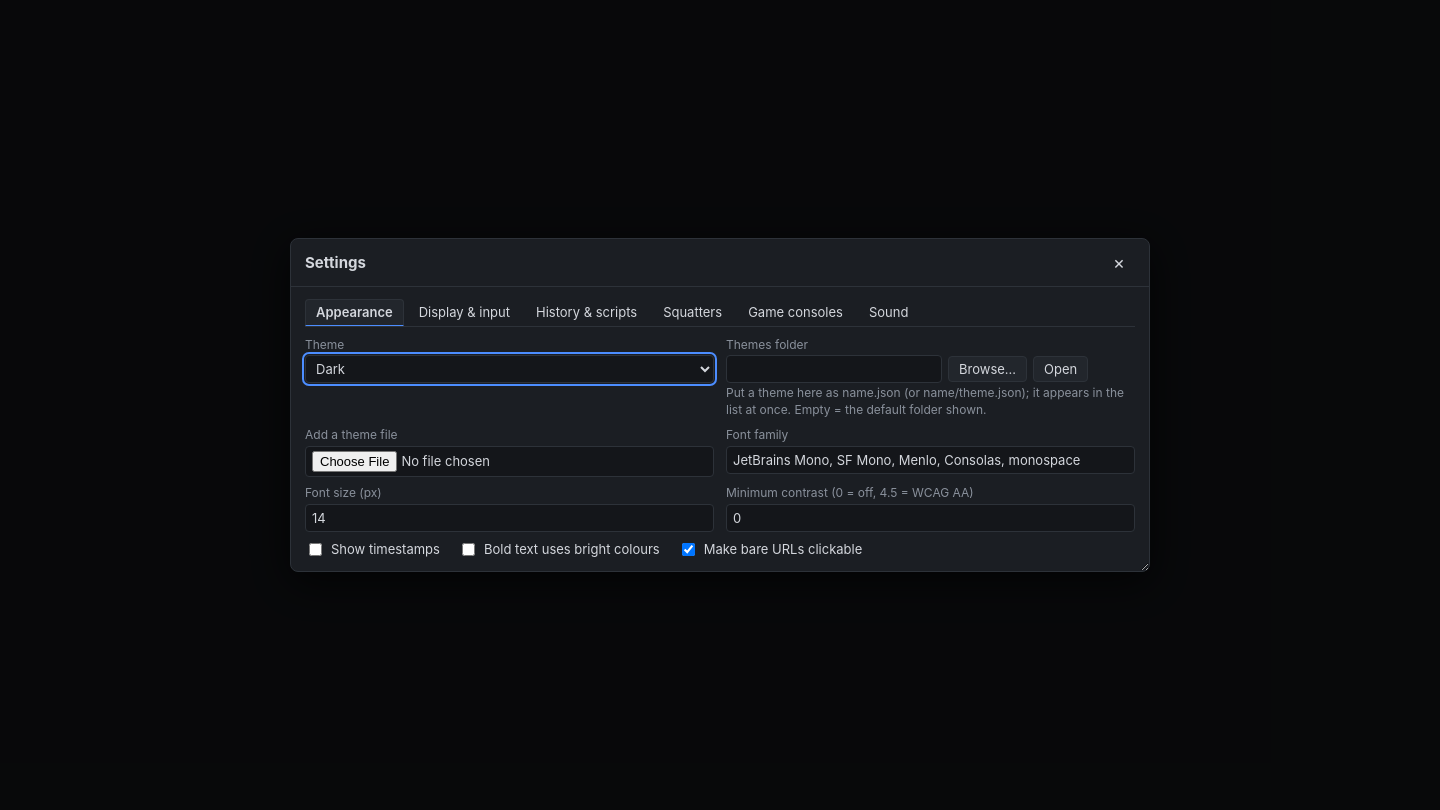
Test: Settings tabs › groups the settings into tabs, one shown at a time
The width and height of the screenshot is (1440, 810).
expect the dropdown labelled "Theme" is shown: met, box [305,355,714,383]
expect the field labelled "Master volume" is not shown: met
Click the tab "Sound" at (889, 312), box [858,299,919,326]
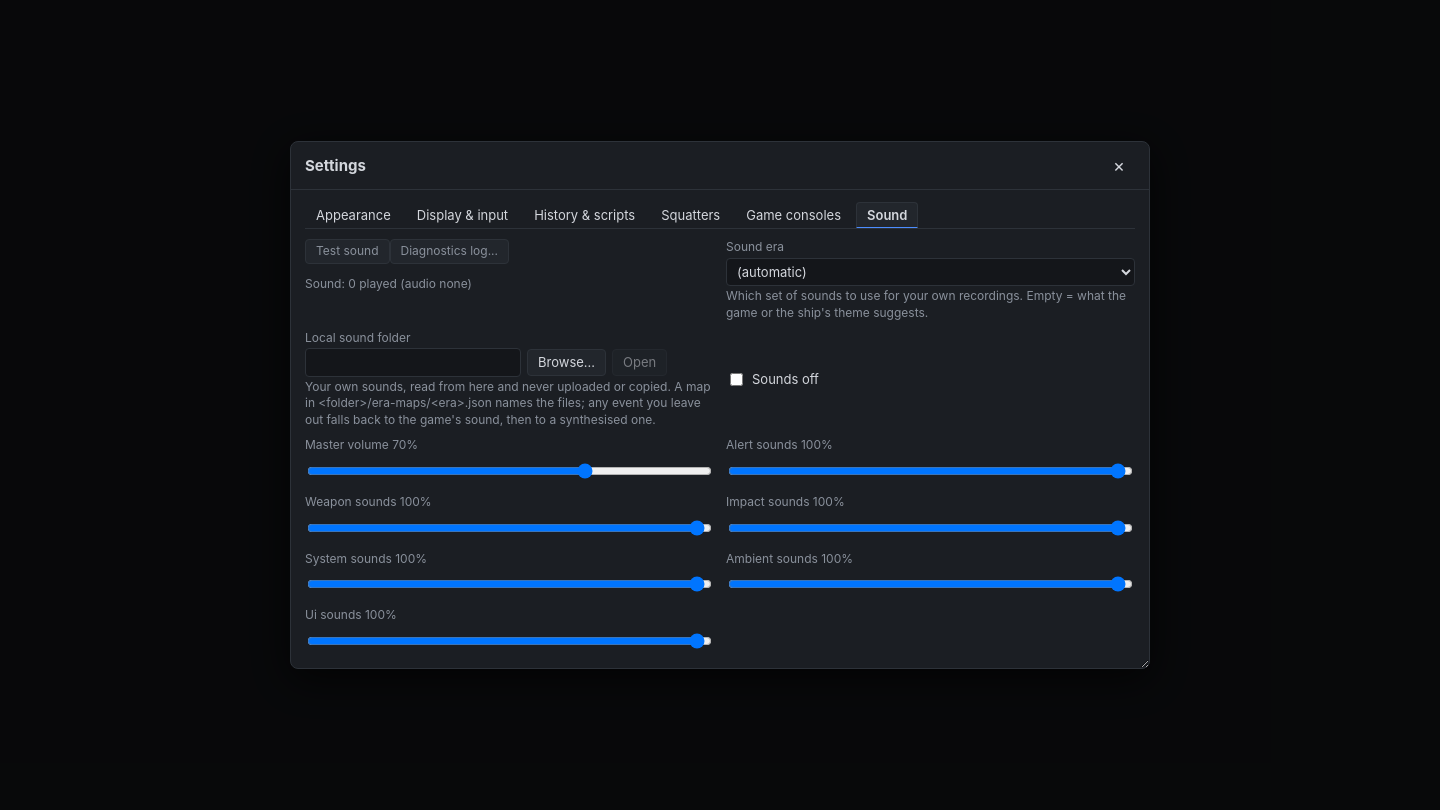
expect the field labelled "Theme" is not shown: met
expect the slider labelled "Master volume" is shown: met, box [307,458,712,484]
